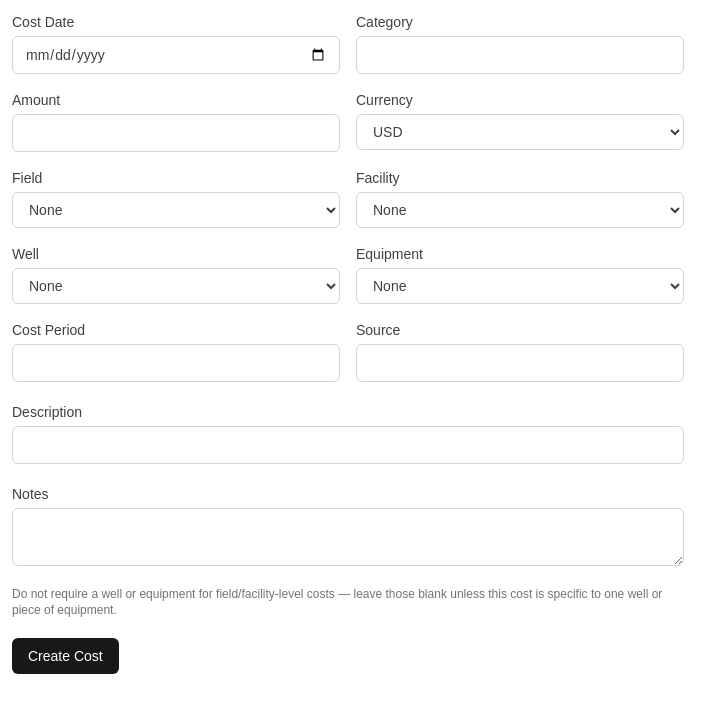
Scenario: OperatingCostForm › rejects a negative amount
The width and height of the screenshot is (701, 711).
Type "2026-02-01" into the date field labelled "Cost Date" at (176, 55), box [12,36,340,74]
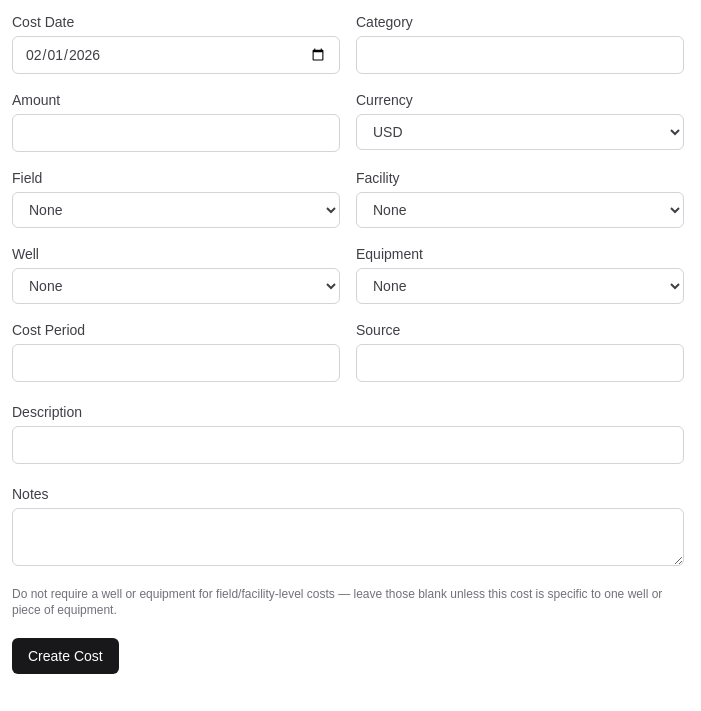
Type "Energy" into the field labelled "Category" at (520, 55), box [356,36,684,74]
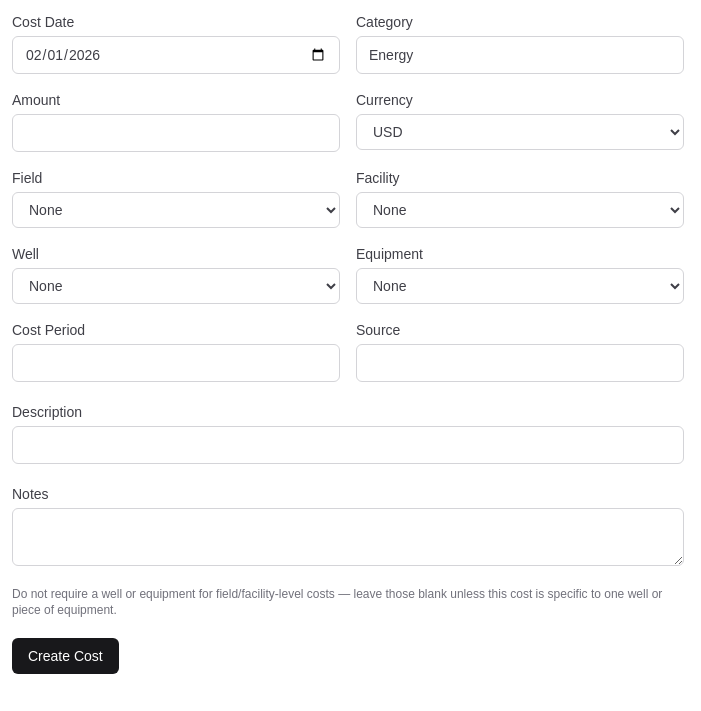
Type "-50" into the field labelled "Amount" at (176, 133), box [12,114,340,152]
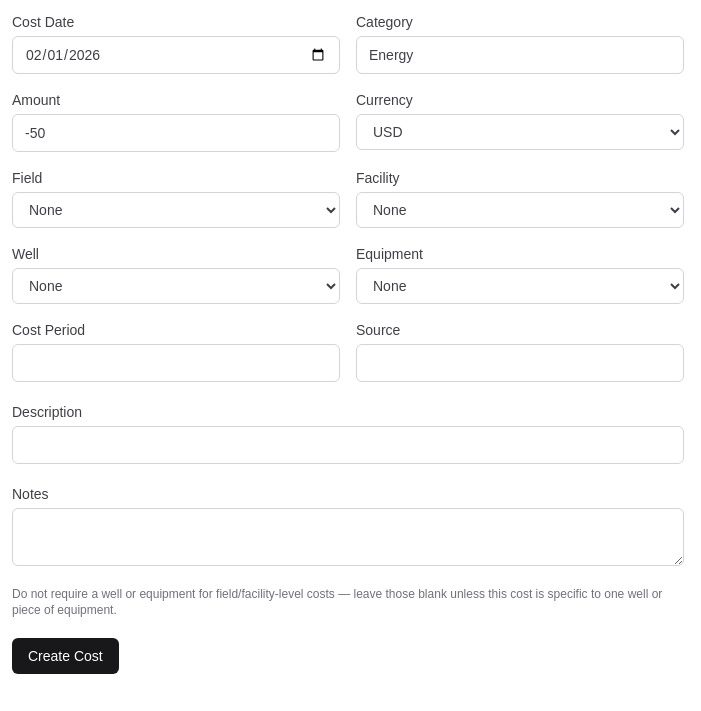
Click the button "Create Cost" at (65, 656), box [12,638,119,674]
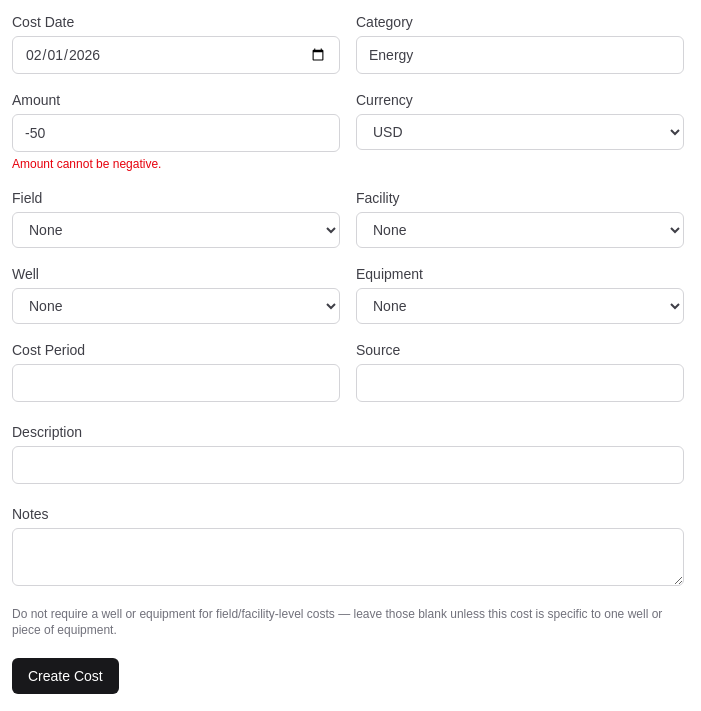
expect the text "Amount cannot be negative." is shown: met, box [12,157,161,171]
